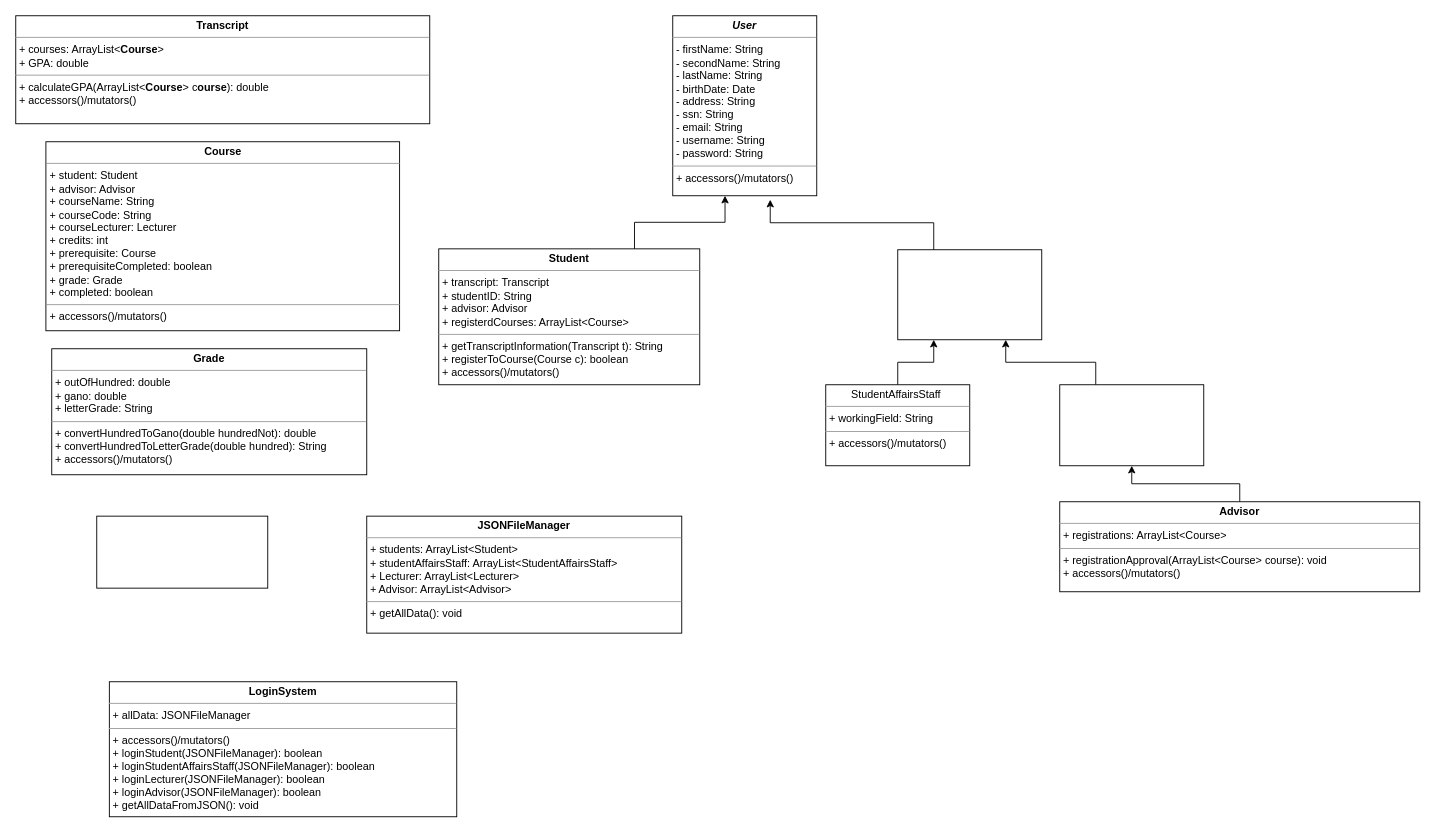
Some shapes in this 1436 by 833 pixel diagram are drawn without their labels. The shapes that lost their labels are listed below. From the top down, each one's centre as x and y in pixels, then its label:
At point (969, 294): "Staff + staffID: String + department: String + accessors()/mutators()".
At point (1131, 425): "Lecturer + profession: String + accessors()/mutators()".
At point (182, 551): "Main + startCodeLoginSystem(): void".
